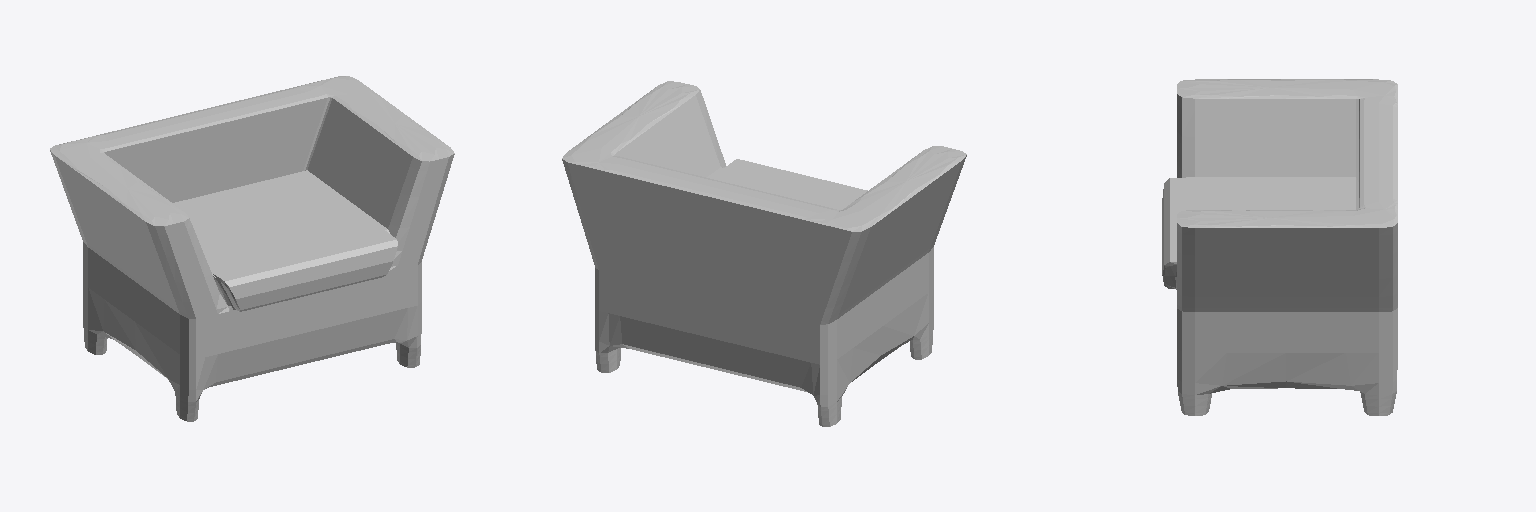
File: sofa Chair.obj
3 views of the same model, side by side, from view 1: azimuth 30°, elevation 25°; view 2: azimuth 150°, elevation 25°; view 3: azimuth 270°, elevation 25° (orthographic).
Parts seen in each view (by area): view 1: pCube32; view 2: pCube32; view 3: pCube32.
Boxes of the visible parts, x1,y1,x2,y2 form: pCube32: [50, 76, 454, 421]; pCube32: [562, 81, 966, 426]; pCube32: [1162, 79, 1397, 415].
Bounding box in the file's own units: 3.98 × 2.58 × 2.66.